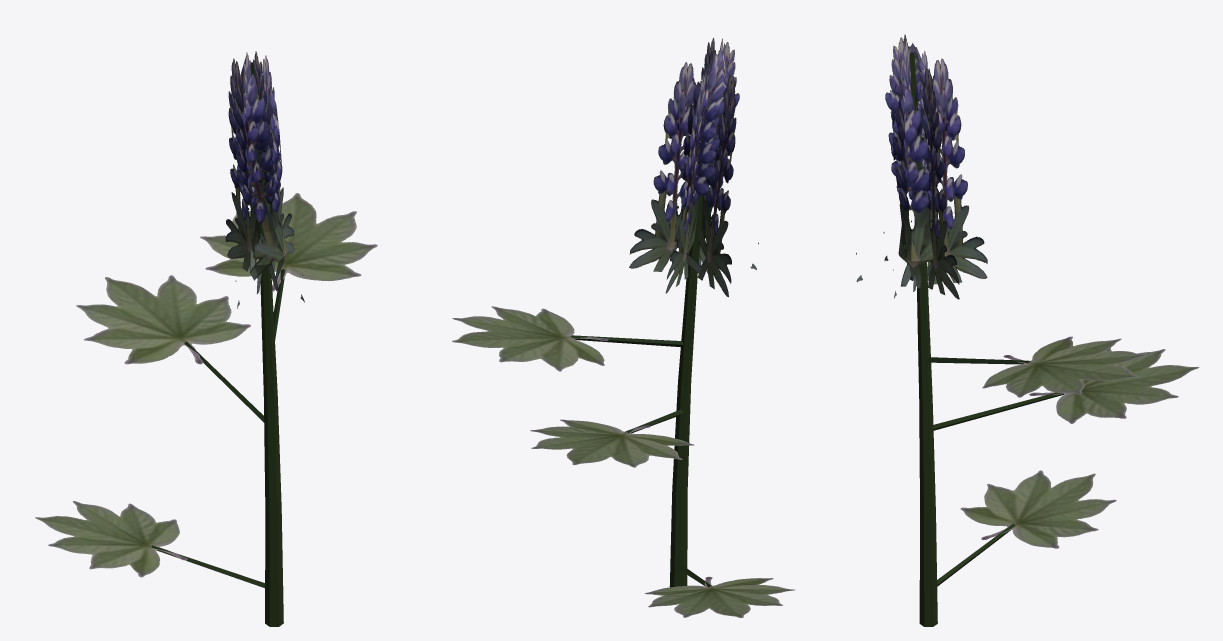
File: category_mesh_flower_1_v2.glb
3 renders of one model, left to right at view 1: azimuth 30°, elevation 25°; view 2: azimuth 150°, elevation 25°; view 3: azimuth 270°, elevation 25°, orthographic. The views are drawn at different scales.
Visible parts, largest first — view 1: category_mesh_flower_1_v2; view 2: category_mesh_flower_1_v2; view 3: category_mesh_flower_1_v2.
Part boxes in pixels (x1,y1,x2,y2): category_mesh_flower_1_v2: (35,51,377,626); category_mesh_flower_1_v2: (452,38,794,617); category_mesh_flower_1_v2: (856,34,1199,626).
Size of the model in its own units: 0.2802 by 0.4026 by 0.2299.
Materials: 1 (1 with a texture image).
